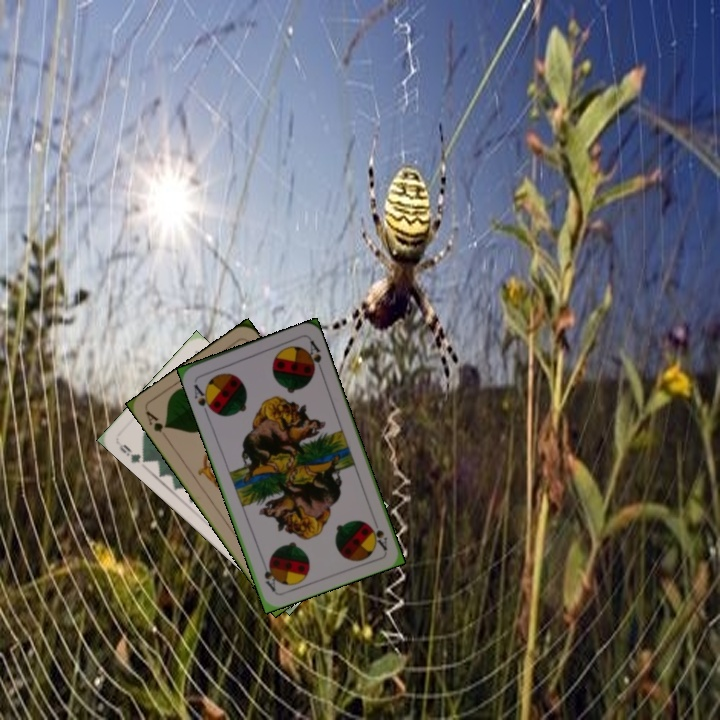G9: (115, 439, 152, 466)
GA: (142, 407, 171, 435)
SA: (190, 380, 217, 417), (365, 514, 390, 553)
